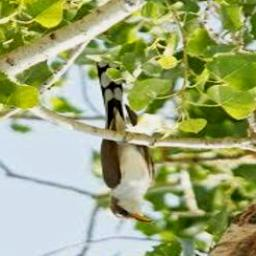Cuckoo: (96, 59, 156, 222)
